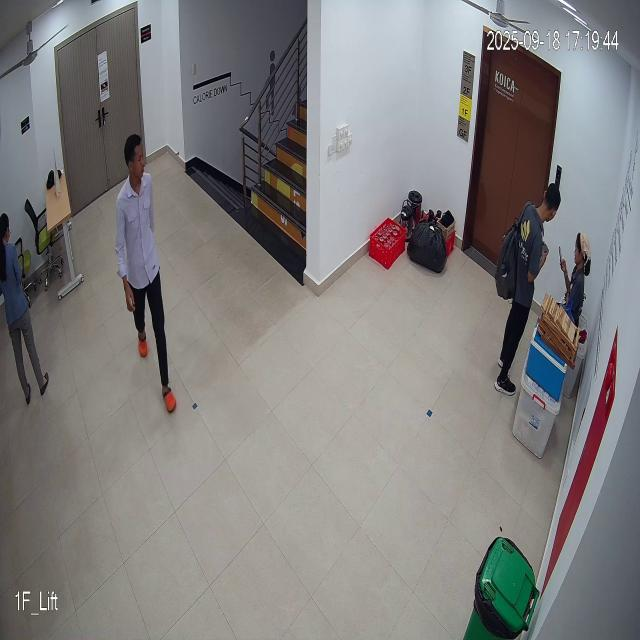face: (124, 130, 148, 182)
